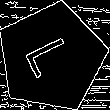L_NE: (22, 32, 81, 83)
